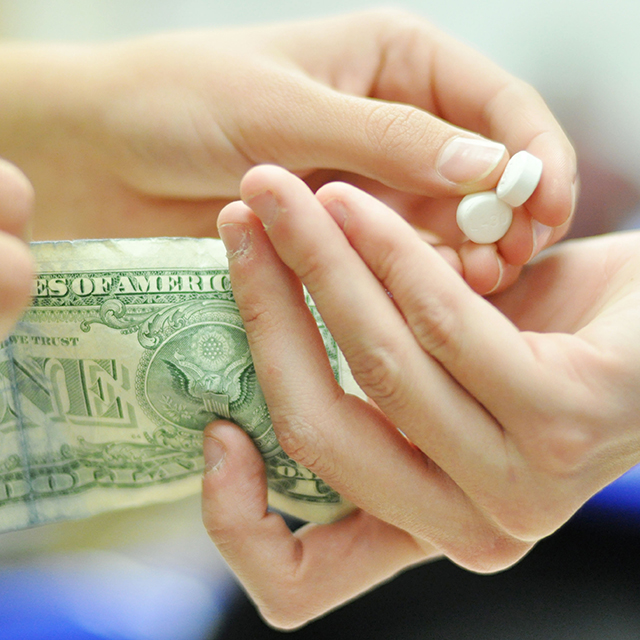banknotes: (1, 235, 372, 536)
